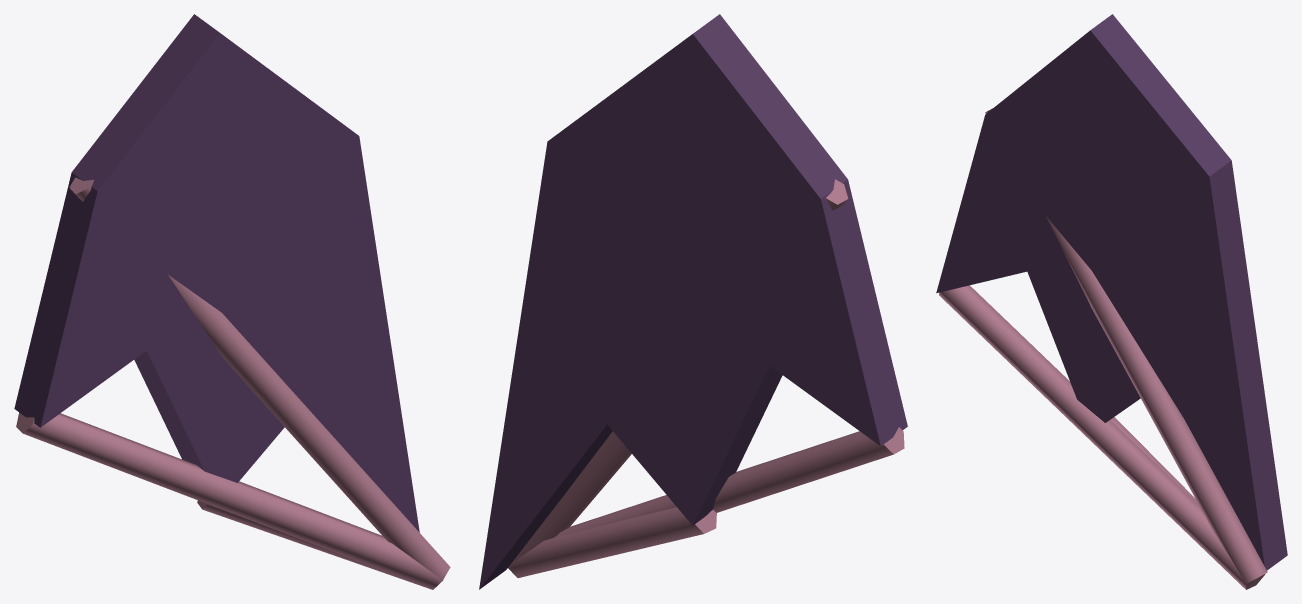
The model's file is bat_wing.fbx.
3 views of the same model, side by side, from view 1: azimuth 30°, elevation 25°; view 2: azimuth 150°, elevation 25°; view 3: azimuth 330°, elevation 25° (orthographic). The views are drawn at different scales.
Visible parts, largest first — view 1: bat_wing; view 2: bat_wing; view 3: bat_wing.
Part boxes in pixels (left/top/right/bottom): bat_wing: left=14, top=14, right=450, bottom=589; bat_wing: left=479, top=14, right=907, bottom=589; bat_wing: left=936, top=14, right=1287, bottom=589.
Size of the model in its own units: 0.4922 by 0.6939 by 0.0979.
